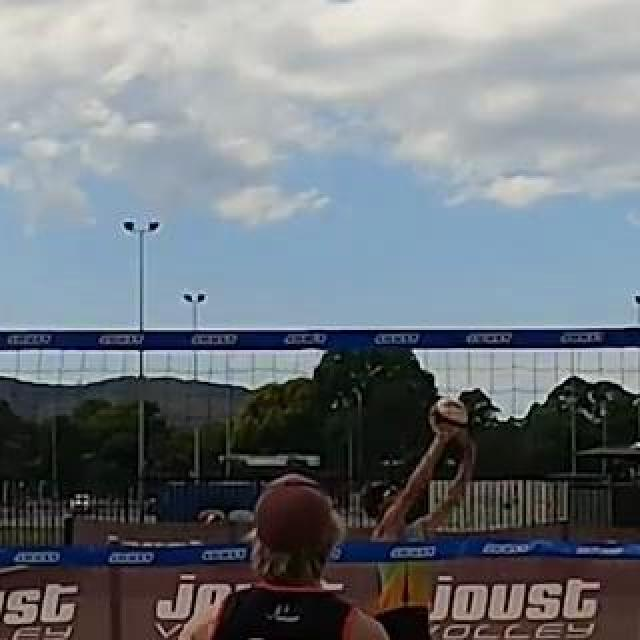volleyball: (431, 398, 467, 434)
